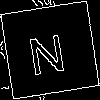N: (25, 25, 68, 76)
